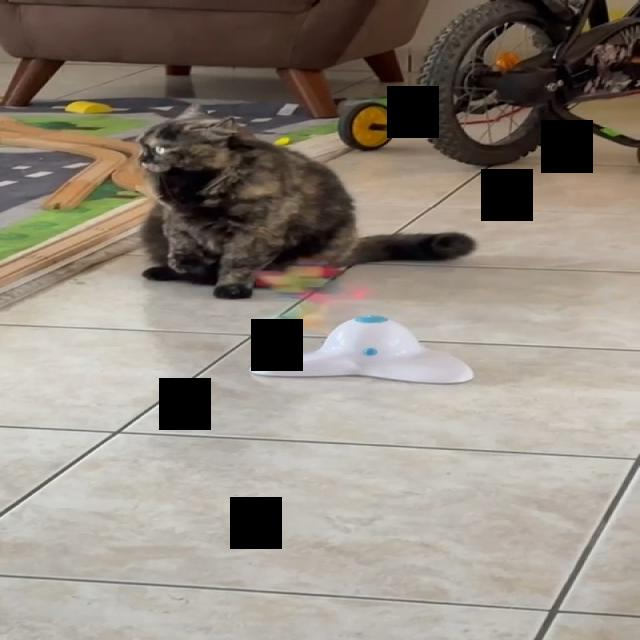authorized: (133, 102, 476, 299)
